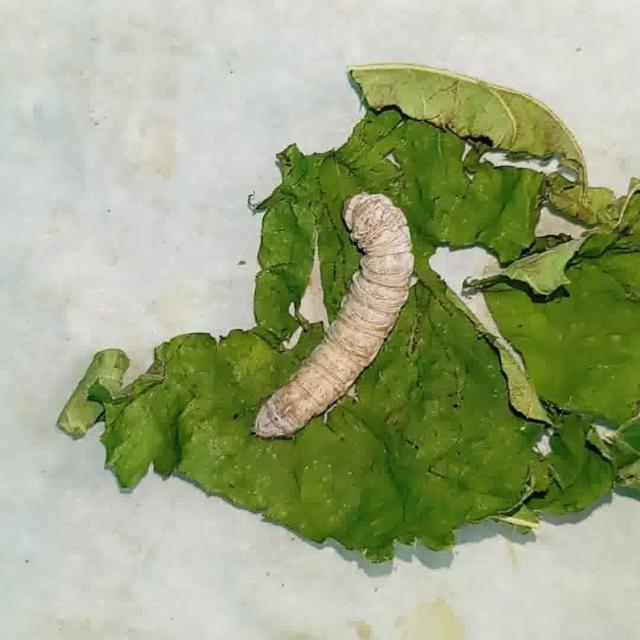Grasserie: (245, 170, 422, 458)
